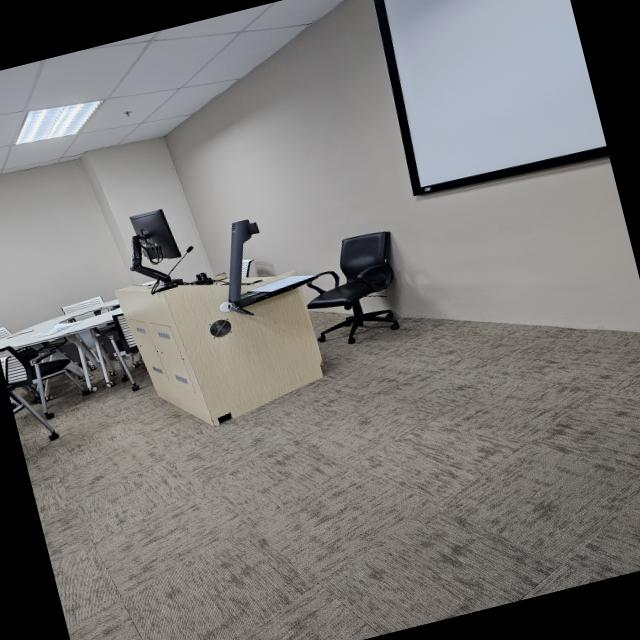footpath: (31, 330, 640, 640)
obstacle: (112, 242, 335, 442), (292, 225, 416, 353), (113, 199, 204, 300)
